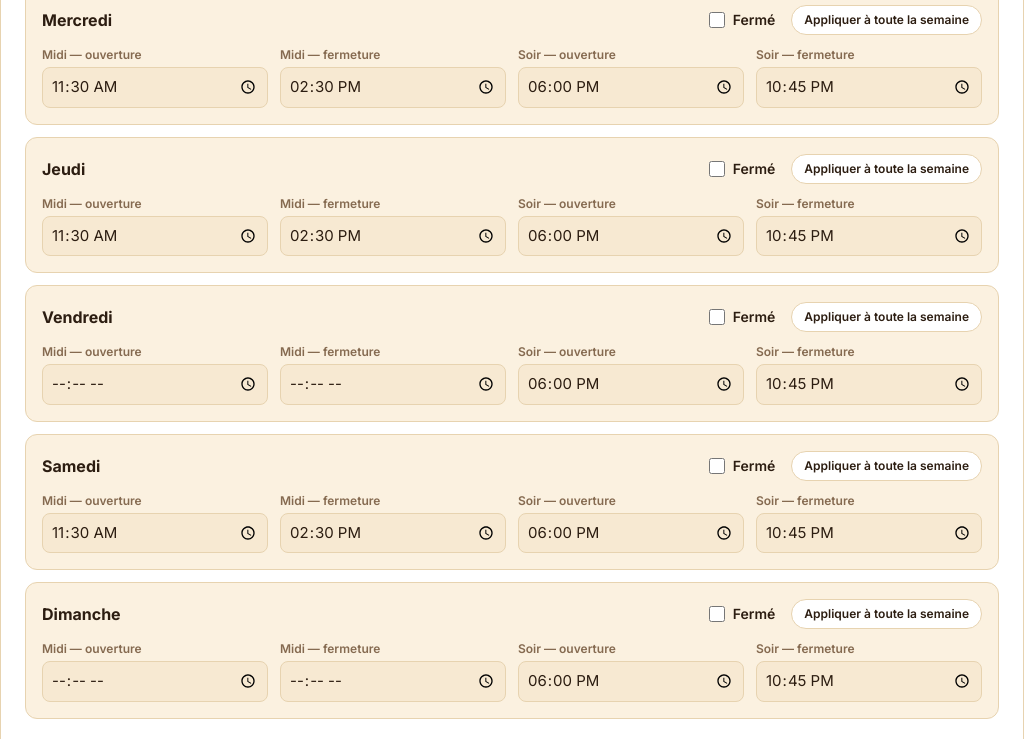
it: un service à moitié rempli › est refusé dans l'autre sens aussi : une fermeture sans ouverture
The width and height of the screenshot is (1024, 739).
(page scrolled)
Type "14:30" into the time field labelled "Midi — fermeture" below "Vendredi" at (393, 384), box [280,364,506,404]
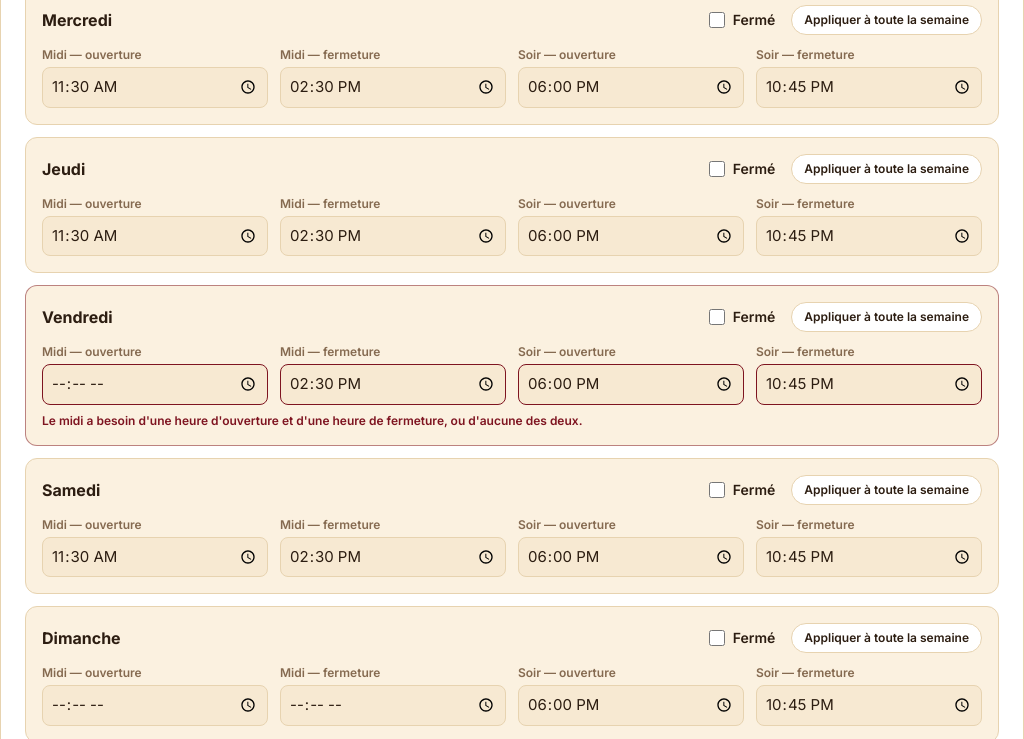
Check: the text "Le midi a besoin d'une heure d'ouverture et d'une heure de fermeture, ou d'aucune des deux." is shown, box [42,412,582,428]
